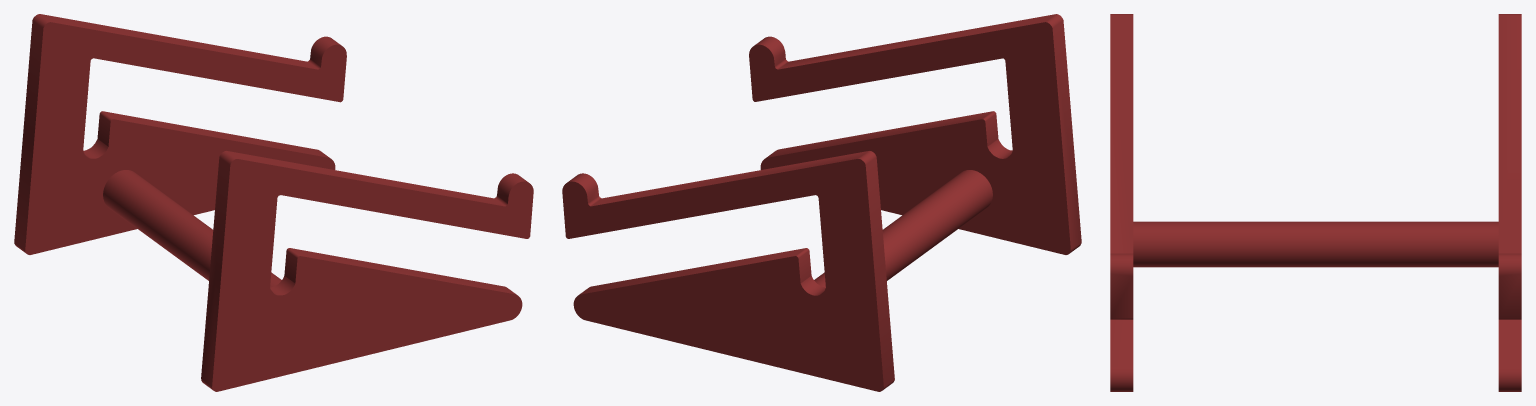
The model's file is laptop-stand.glb.
3 renders of one model, left to right at view 1: azimuth 30°, elevation 25°; view 2: azimuth 150°, elevation 25°; view 3: azimuth 270°, elevation 25°, orthographic. The views are drawn at different scales.
Visible parts, largest first — view 1: Body1_Pine_0; view 2: Body1_Pine_0; view 3: Body1_Pine_0.
Boxes of the visible parts, x1,y1,x2,y2 form: Body1_Pine_0: (14,14,533,391); Body1_Pine_0: (562,14,1081,391); Body1_Pine_0: (1110,14,1521,391).
Bounding box in the file's own units: 0.2817 × 0.1909 × 0.3.
